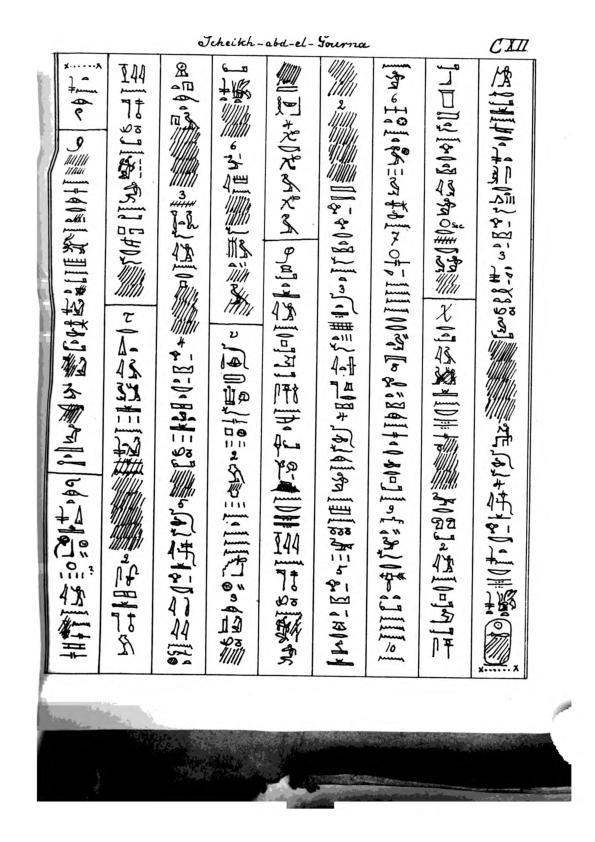circle: (482, 617, 514, 667)
